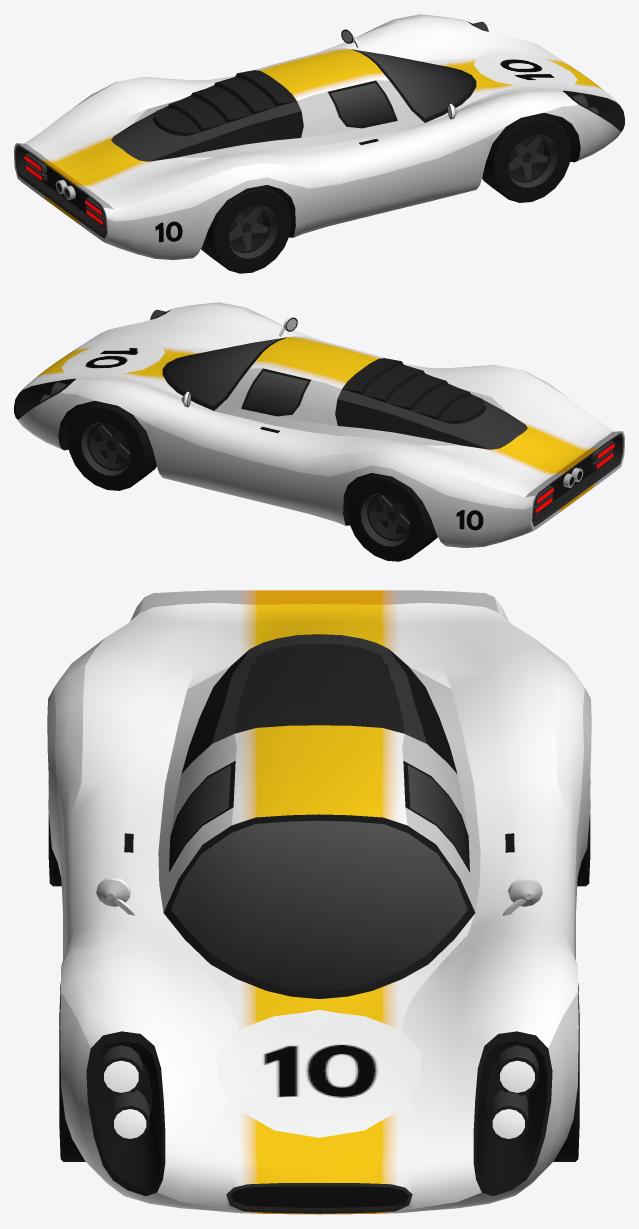
The model's file is RaceCar_051.glb.
3 views of the same model, one above another, from view 1: azimuth 30°, elevation 25°; view 2: azimuth 150°, elevation 25°; view 3: azimuth 270°, elevation 25° (orthographic). The views are drawn at different scales.
Visible parts, largest first — view 1: RaceCar_051, wheel_1_RaceCar_051_Wheel_1R, wheel_3_RaceCar_051_Wheel_2R; view 2: RaceCar_051, wheel_0_RaceCar_051_Wheel_1L, wheel_2_RaceCar_051_Wheel_2L; view 3: RaceCar_051, wheel_0_RaceCar_051_Wheel_1L, wheel_1_RaceCar_051_Wheel_1R.
Boxes of the visible parts, left/top/right/bottom form: RaceCar_051: left=14, top=14, right=624, bottom=259; wheel_1_RaceCar_051_Wheel_1R: left=482, top=113, right=571, bottom=202; wheel_3_RaceCar_051_Wheel_2R: left=201, top=185, right=291, bottom=273; RaceCar_051: left=14, top=302, right=624, bottom=547; wheel_0_RaceCar_051_Wheel_1L: left=67, top=401, right=156, bottom=490; wheel_2_RaceCar_051_Wheel_2L: left=347, top=473, right=437, bottom=561; RaceCar_051: left=47, top=590, right=591, bottom=1214; wheel_0_RaceCar_051_Wheel_1L: left=553, top=983, right=579, bottom=1161; wheel_1_RaceCar_051_Wheel_1R: left=59, top=983, right=85, bottom=1161.
Size of the model in its own units: 4.8 by 1.06 by 2.13.
3 materials, 3 textured.
